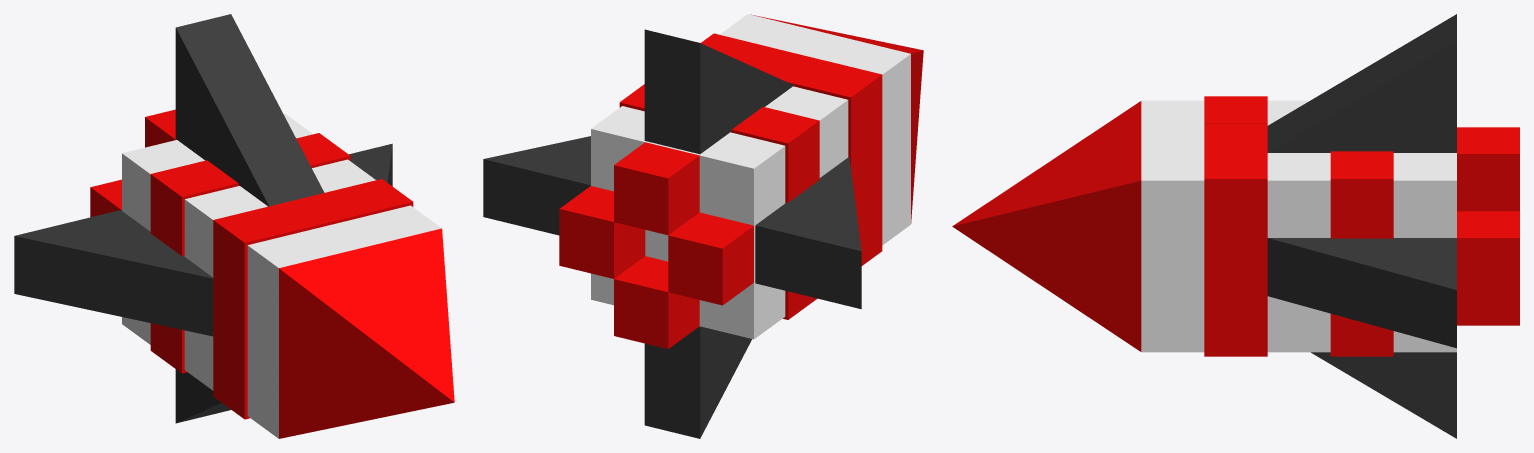
File: Missile Model 2.fbx
The picture shows the model from 3 angles, left to right: view 1: azimuth 30°, elevation 25°; view 2: azimuth 150°, elevation 25°; view 3: azimuth 270°, elevation 25°; orthographic projection.
Parts seen in each view (by area): view 1: Pyramid, Cube_20, Cube_23, Cube_2, Cube_11, Cube_15, Cube_6, Cube_1, Cube_8, Cube_7, Cube_10, Cube (+5 smaller); view 2: Cube_2, Cube_20, Cube_23, Cube_22, Cube_21, Cube_11, Cube_16, Cube_18, Cube_19, Cube_17, Cube_6, Cube_1 (+8 smaller); view 3: Pyramid, Cube_1, Cube_21, Cube_20, Cube_10, Cube_14, Cube_4, Cube_22, Cube_16, Cube_19, Cube_3, Cube_2 (+4 smaller).
Part boxes in pixels (x1,y1,x2,y2): Pyramid: (279,228,454,438); Cube_20: (175,14,324,206); Cube_23: (14,210,213,336); Cube_2: (122,140,332,324); Cube_11: (213,206,299,419); Cube_15: (150,161,235,373); Cube_6: (122,317,278,438); Cube_1: (283,113,441,241); Cube_8: (249,192,389,242); Cube_7: (122,210,278,381); Cube_10: (328,179,413,215); Cube: (176,140,386,254); Cube_2: (699,40,910,225); Cube_20: (644,29,793,154); Cube_23: (755,156,861,309); Cube_22: (644,326,751,438); Cube_21: (483,136,590,235); Cube_11: (797,61,882,265); Cube_16: (614,142,699,235); Cube_18: (668,212,753,305); Cube_19: (559,186,645,278); Cube_17: (614,256,699,348); Cube_6: (699,168,910,339); Cube_1: (591,14,801,191); Pyramid: (952,101,1141,351); Cube_1: (1141,154,1456,237); Cube_21: (1267,238,1456,348); Cube_20: (1267,14,1456,152); Cube_10: (1204,152,1267,356); Cube_14: (1330,152,1393,356); Cube_4: (1141,295,1456,352); Cube_22: (1311,352,1456,438); Cube_16: (1457,127,1519,211); Cube_19: (1457,211,1519,294); Cube_3: (1141,238,1204,294); Cube_2: (1141,100,1309,127).
Bounding box in the file's own units: 69.57 × 69.57 × 90.
